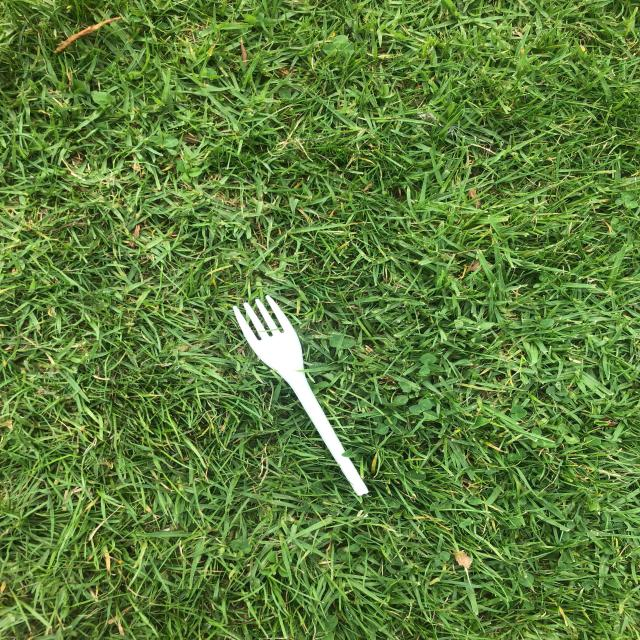litter: (401, 208, 640, 303)
